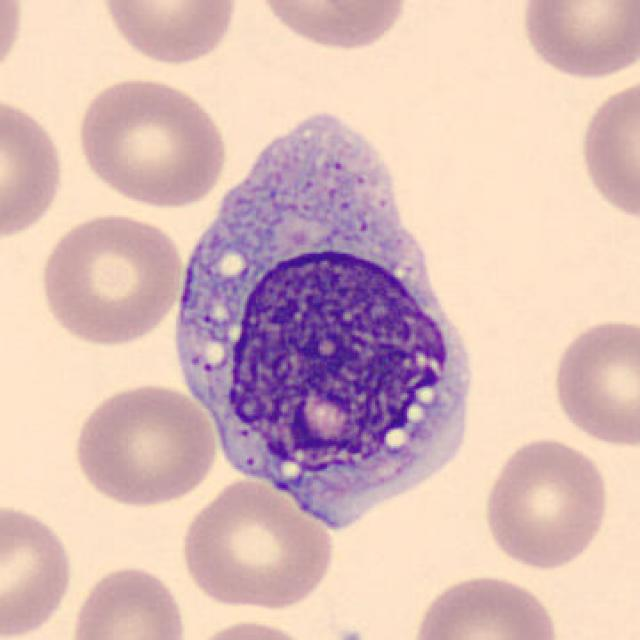Monocyte: (162, 90, 487, 538)
Platelets: (334, 627, 369, 640)
RBC: (176, 476, 338, 614), (71, 72, 231, 210), (36, 208, 186, 349), (70, 379, 220, 510), (478, 434, 614, 573), (548, 314, 638, 449), (407, 569, 564, 640), (0, 499, 76, 640), (0, 91, 69, 245), (94, 0, 242, 69), (516, 0, 638, 83), (66, 560, 192, 640), (574, 74, 638, 227), (247, 0, 411, 53), (183, 617, 318, 640), (0, 0, 27, 92)
